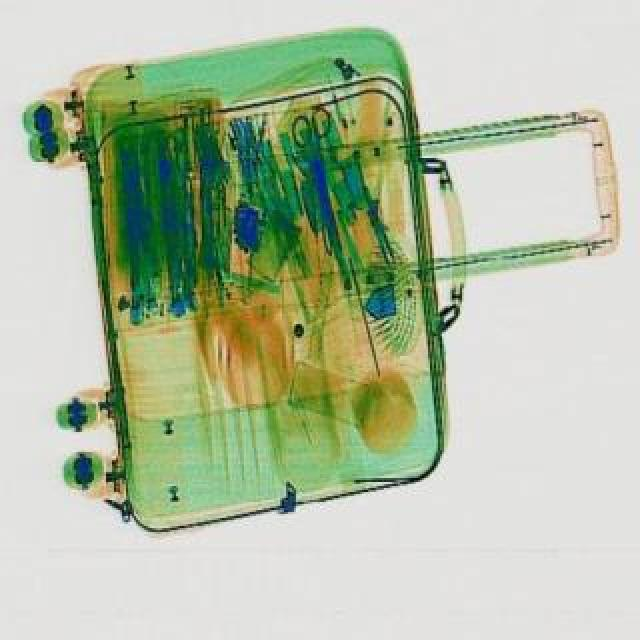pliers: (290, 110, 354, 242)
